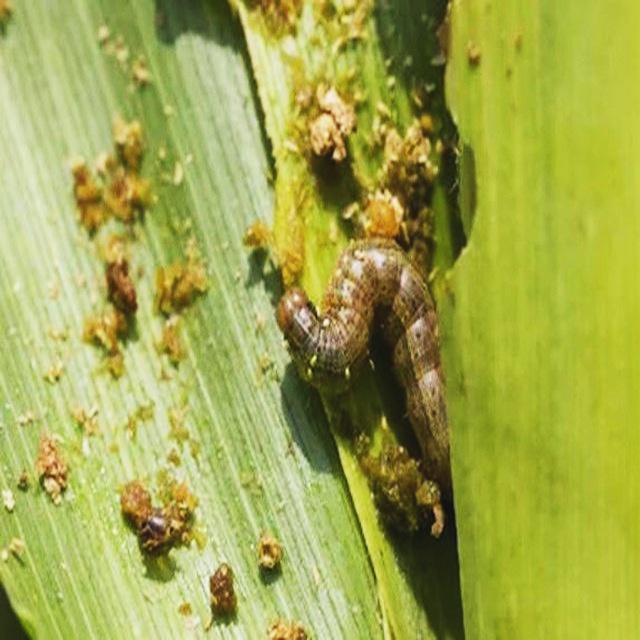gusano_cogollero: (278, 240, 448, 485)
